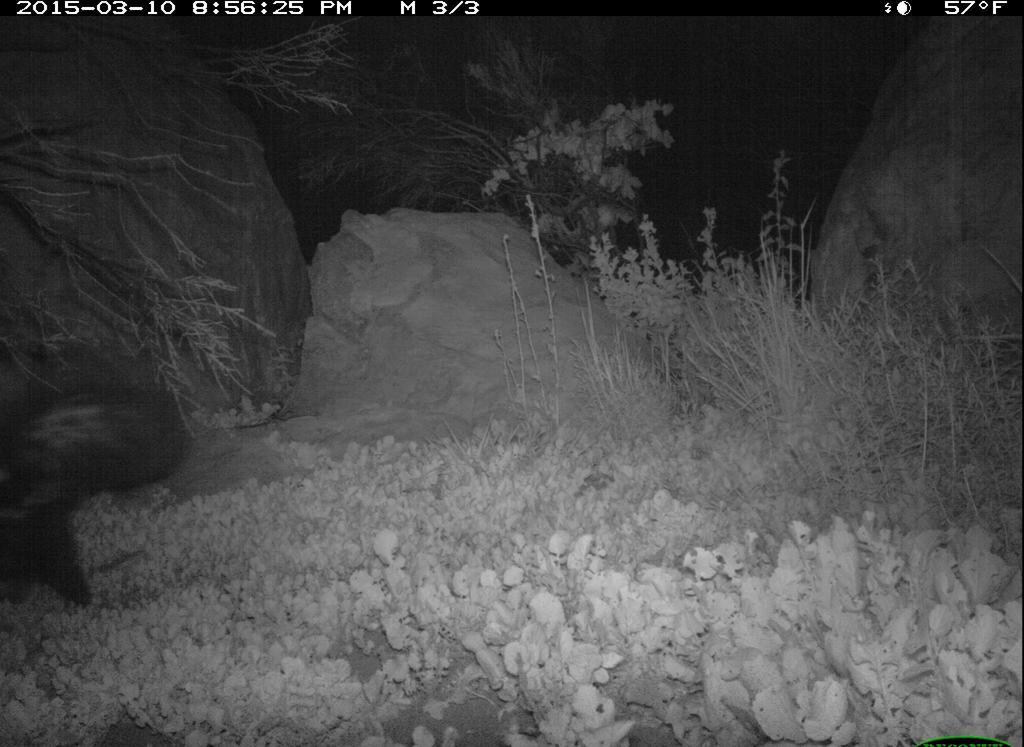skunk: (6, 368, 205, 616)
